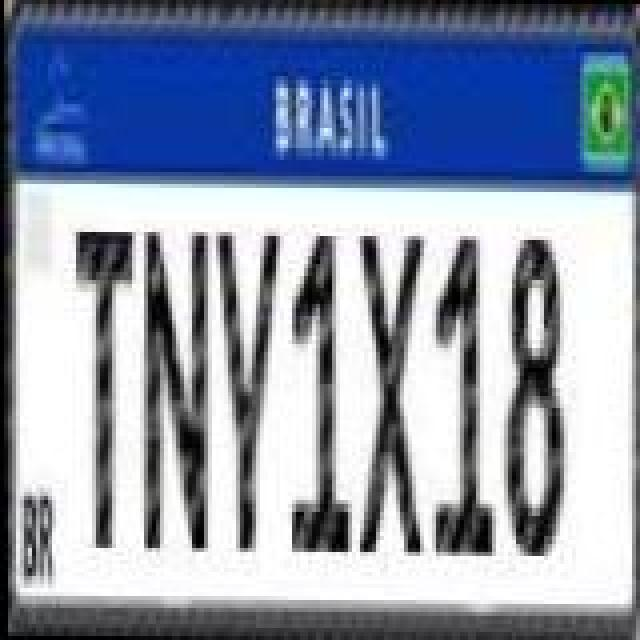1: (280, 230, 356, 554), (424, 228, 500, 552)
8: (494, 228, 566, 564)
N: (136, 222, 212, 558)
T: (68, 220, 136, 556)
X: (352, 232, 428, 556)
Y: (208, 218, 284, 554)
